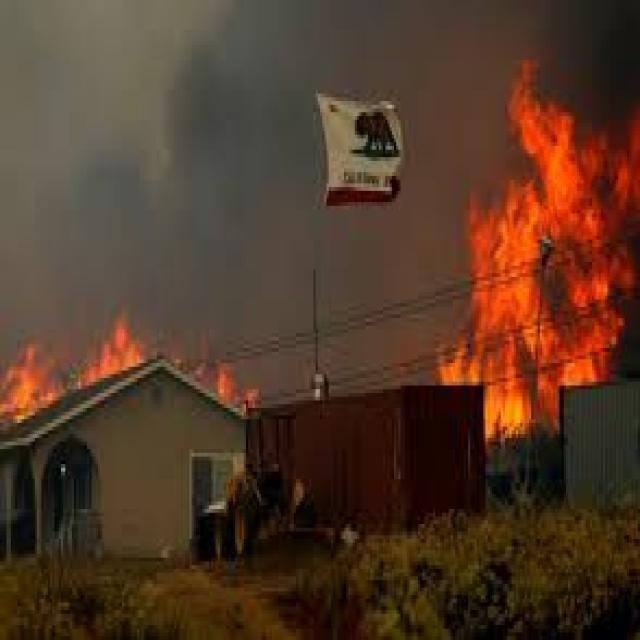Fire: (460, 61, 640, 432), (463, 73, 613, 361), (485, 335, 532, 441), (3, 346, 59, 424), (81, 321, 145, 387), (217, 368, 235, 406)
Smoke: (82, 0, 274, 249), (0, 11, 107, 292), (313, 204, 431, 399), (222, 211, 334, 351), (310, 0, 445, 109), (527, 0, 640, 97)
